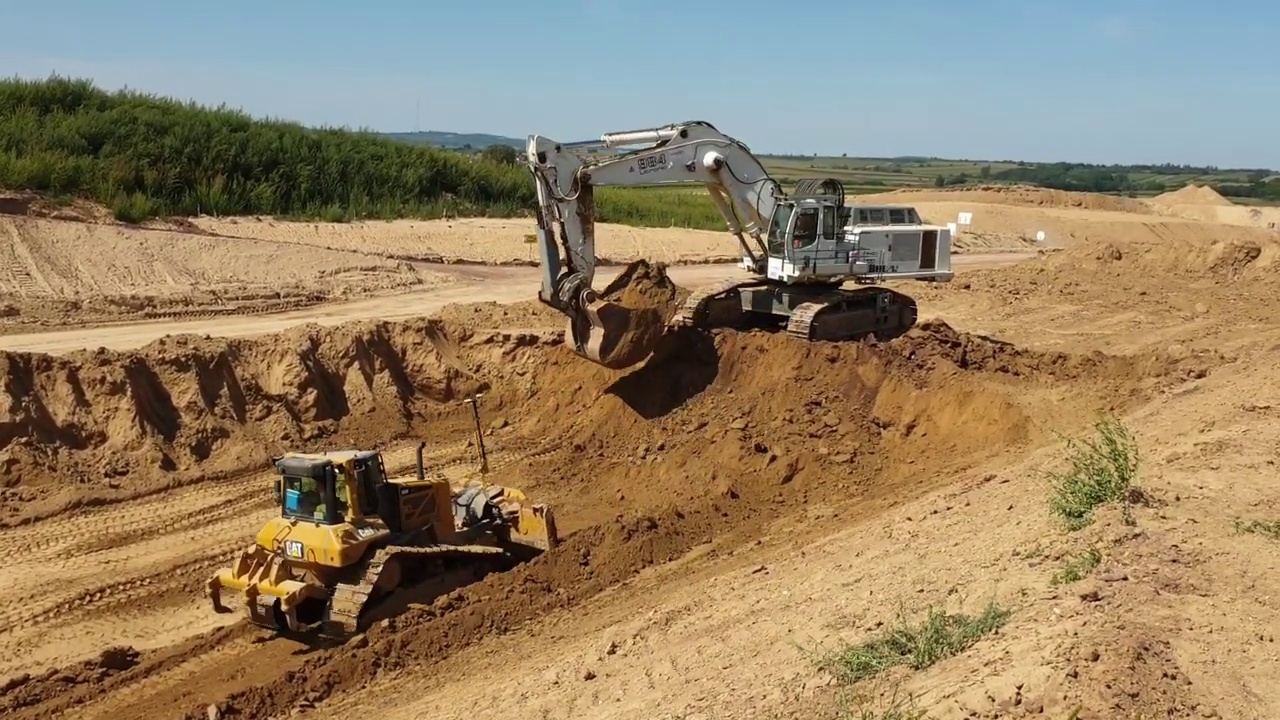bulldozer: (204, 389, 567, 655)
excavator: (516, 114, 961, 372)
